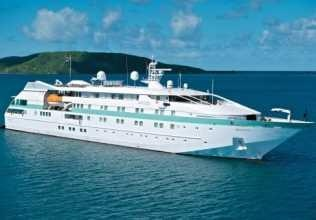yacht: (5, 51, 303, 159)
